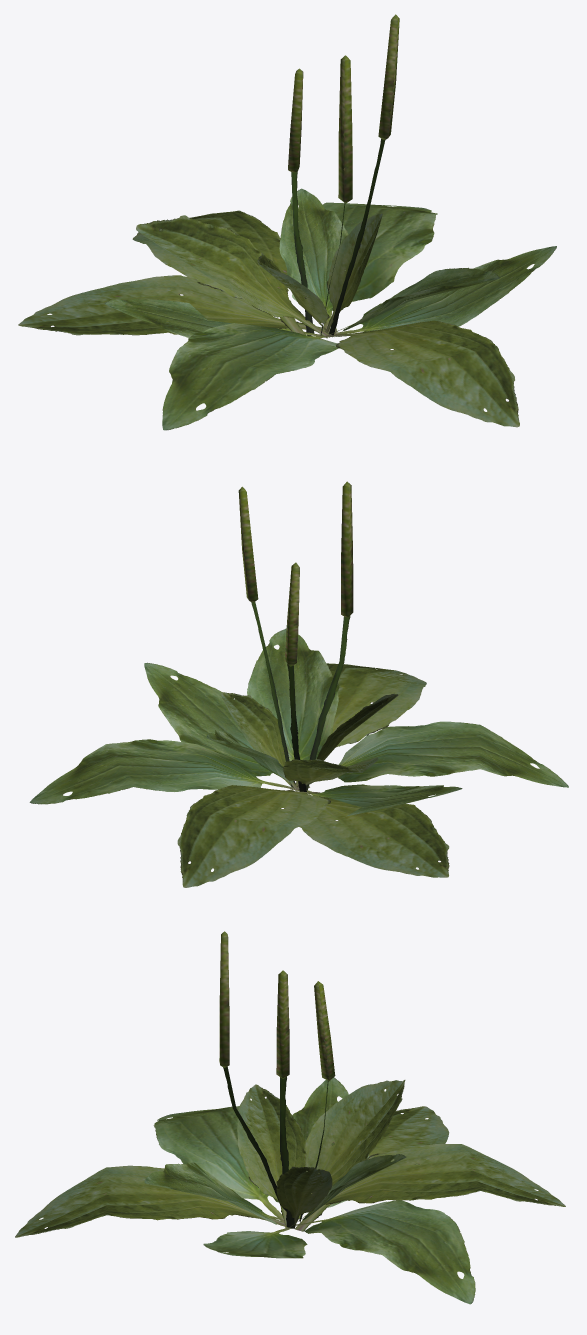
File: Plantain_sm.FBX
3 renders of one model, top to bottom at view 1: azimuth 30°, elevation 25°; view 2: azimuth 150°, elevation 25°; view 3: azimuth 270°, elevation 25°, orthographic. The views are drawn at different scales.
Visible parts, largest first — view 1: Plantain_sm; view 2: Plantain_sm; view 3: Plantain_sm.
Part boxes in pixels (x1=…): Plantain_sm: x1=18, y1=14, x2=556, y2=430; Plantain_sm: x1=29, y1=481, x2=568, y2=887; Plantain_sm: x1=15, y1=931, x2=565, y2=1304.
Bounding box in the file's own units: 86.3 × 54.26 × 94.03.
